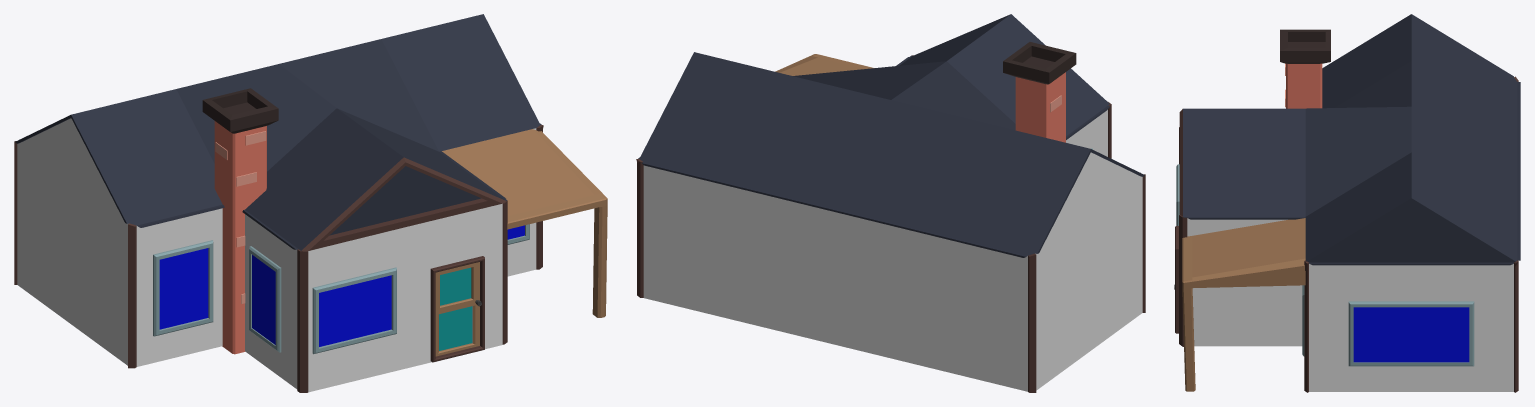
File: House3.fbx
3 renders of one model, left to right at view 1: azimuth 30°, elevation 25°; view 2: azimuth 150°, elevation 25°; view 3: azimuth 270°, elevation 25°, orthographic. The views are drawn at different scales.
Parts seen in each view (by area): view 1: House3; view 2: House3; view 3: House3.
Boxes of the visible parts, left/top/right/bottom form: House3: left=14, top=14, right=607, bottom=392; House3: left=636, top=14, right=1145, bottom=392; House3: left=1174, top=14, right=1520, bottom=392.
Size of the model in its own units: 1280 by 703 by 1010.
